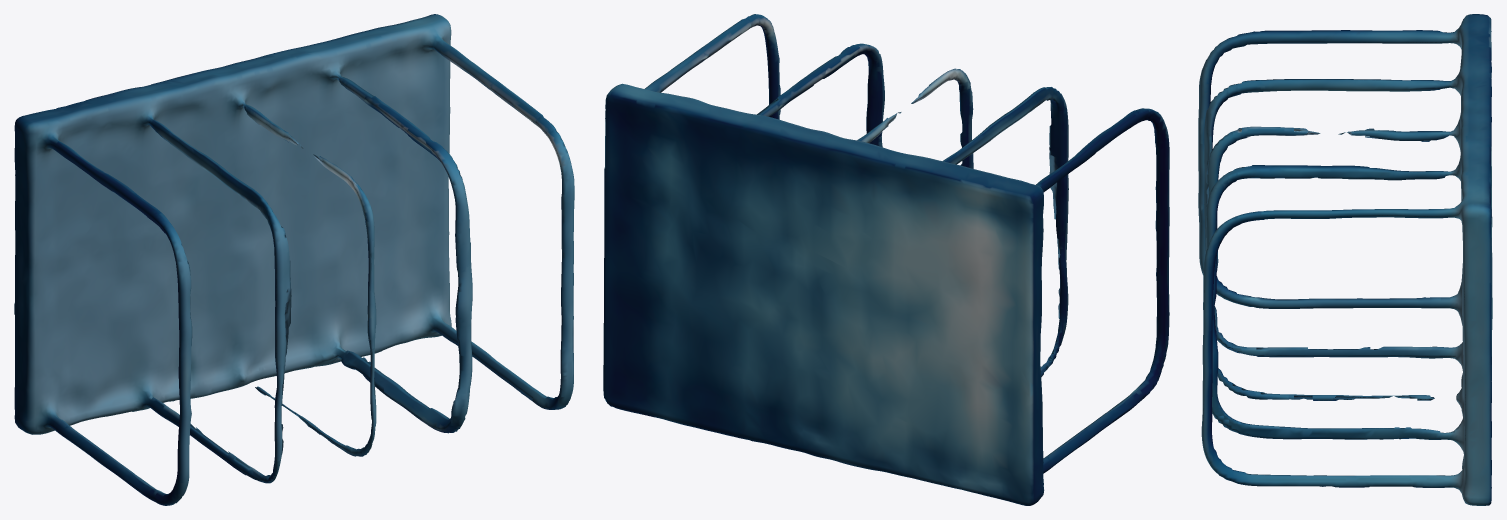
Rendered from sorter.glb.
3 views of the same model, side by side, from view 1: azimuth 30°, elevation 25°; view 2: azimuth 150°, elevation 25°; view 3: azimuth 270°, elevation 25° (orthographic). The views are drawn at different scales.
Size of the model in its own units: 0.9996 by 0.7055 by 0.6228.
